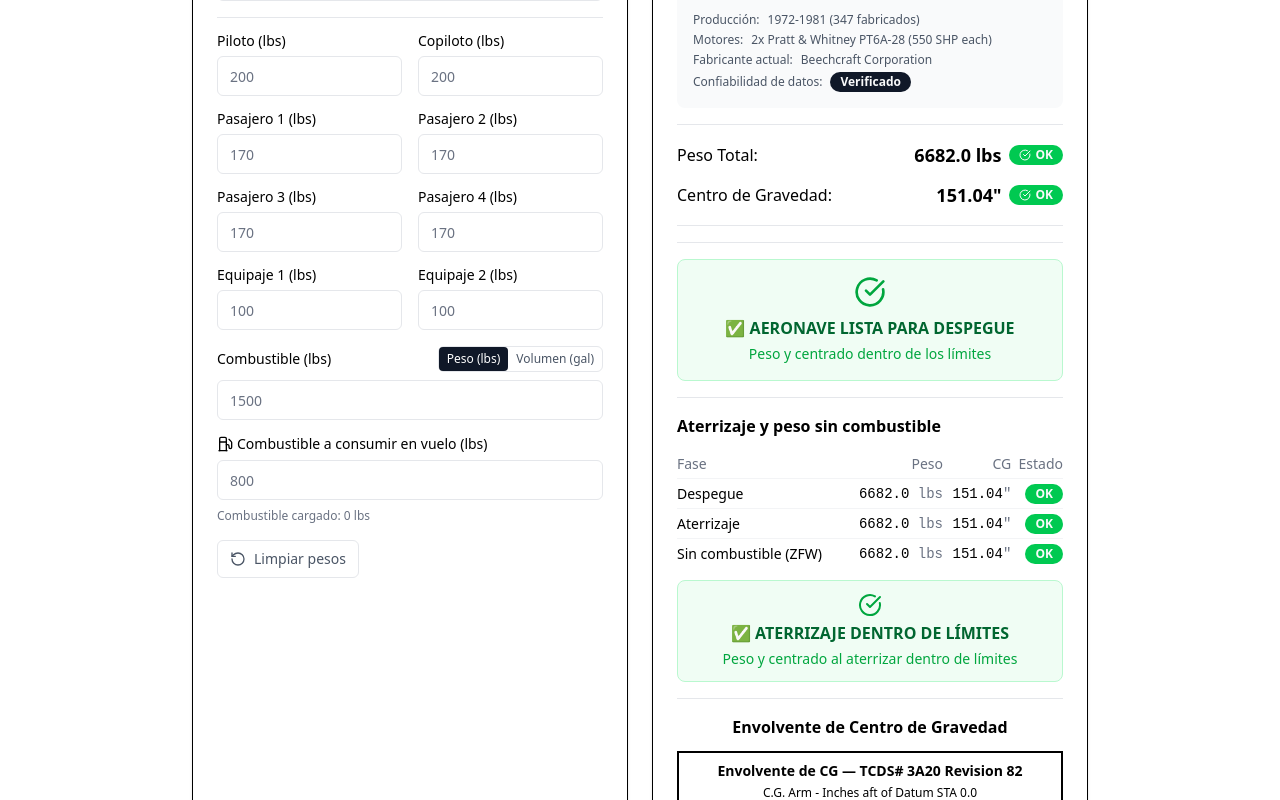
Test: App (integración) › rejects takeoff when fuel load exceeds max weight
(page scrolled)
Type "5000" into the number field labelled "Combustible (lbs)" at (410, 400), box [217,380,603,420]
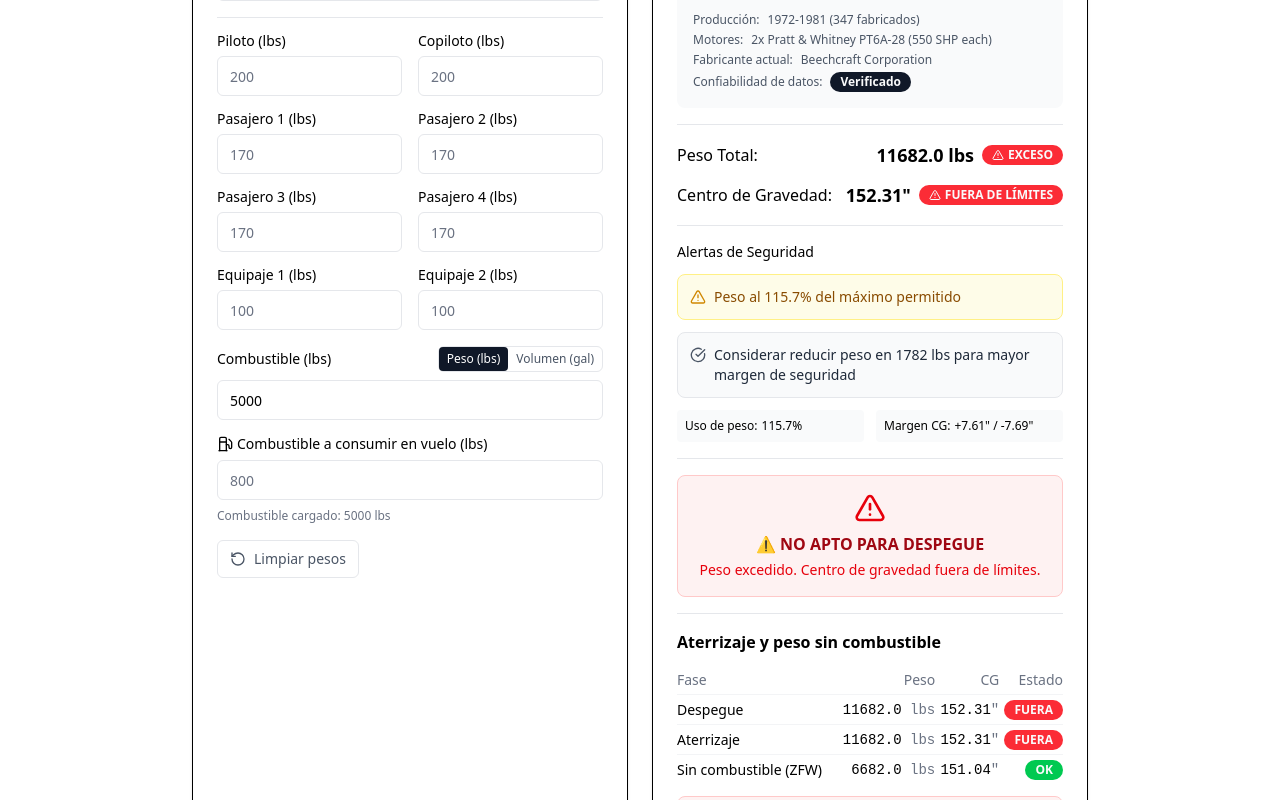
Check: the text "⚠️ NO APTO PARA DESPEGUE" is shown, box [756,533,984,555]
Check: the text "EXCESO" is shown, box [982,145,1063,165]
